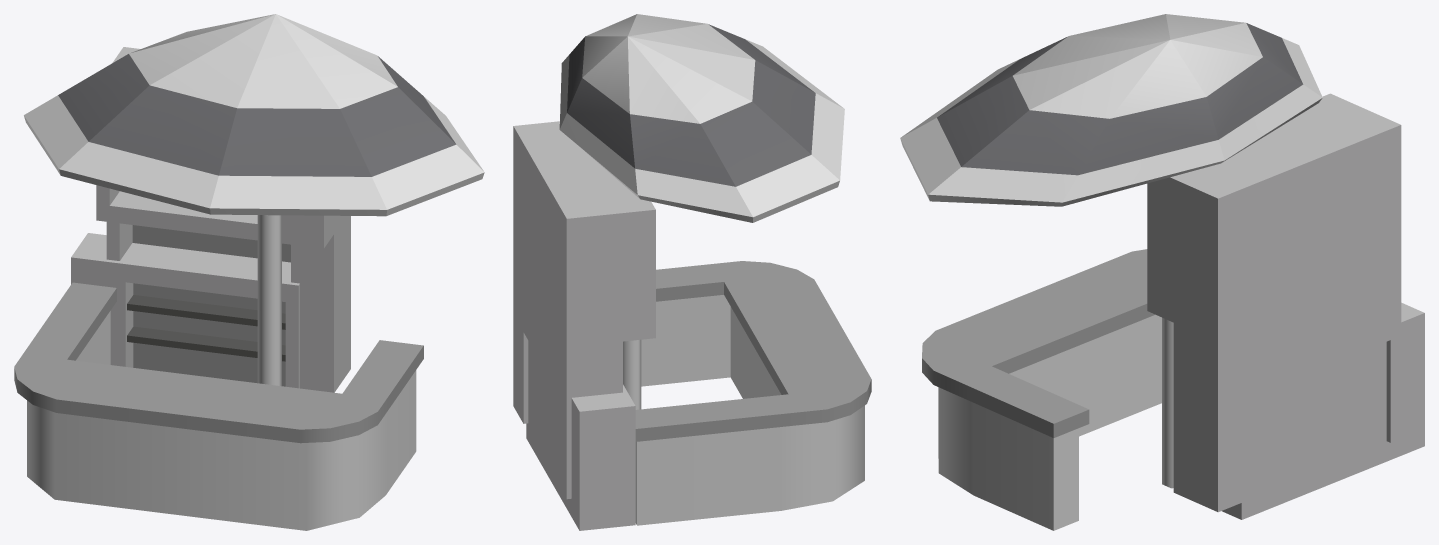
File: Foodstand_01.fbx
3 renders of one model, left to right at view 1: azimuth 30°, elevation 25°; view 2: azimuth 150°, elevation 25°; view 3: azimuth 270°, elevation 25°, orthographic. The views are drawn at different scales.
Parts seen in each view (by area): view 1: Foodstand_01; view 2: Foodstand_01; view 3: Foodstand_01.
Part boxes in pixels (x1=…): Foodstand_01: x1=14, y1=14, x2=484, y2=530; Foodstand_01: x1=513, y1=14, x2=871, y2=530; Foodstand_01: x1=900, y1=14, x2=1424, y2=530.
Size of the model in its own units: 14.4 by 15.71 by 16.73.
